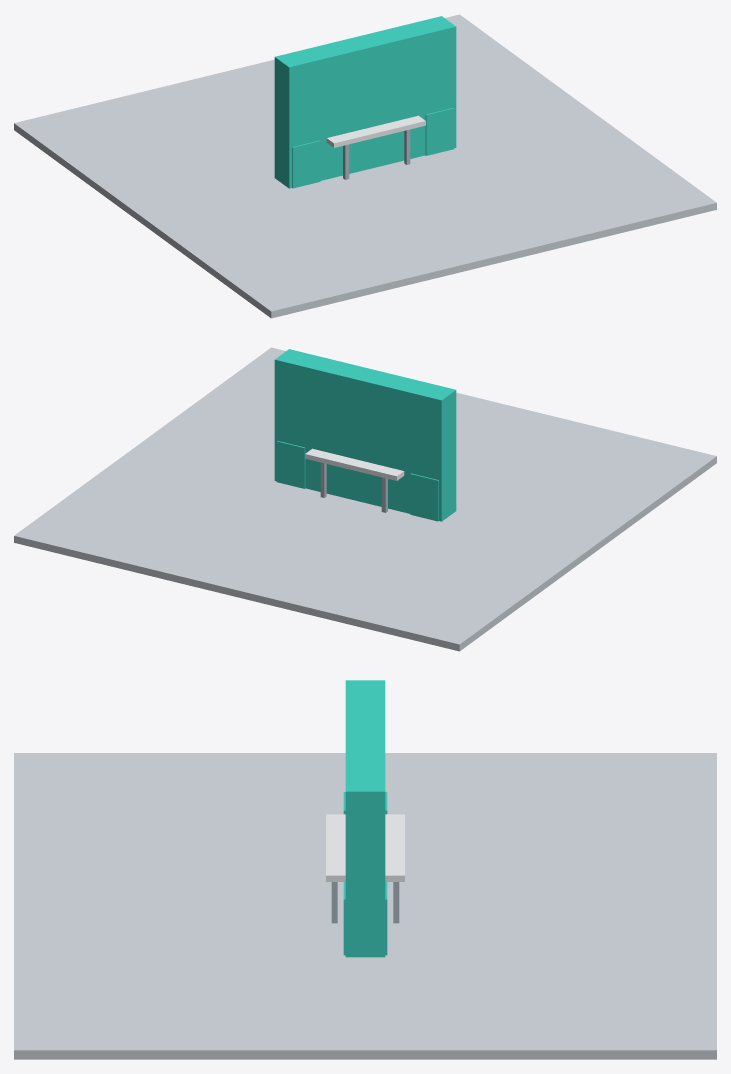
3 views of the same model, one above another, from view 1: azimuth 30°, elevation 25°; view 2: azimuth 150°, elevation 25°; view 3: azimuth 270°, elevation 25° (orthographic). The views are drawn at different scales.
Parts seen in each view (by area): view 1: Exhibition Booth Concept; view 2: Exhibition Booth Concept; view 3: Exhibition Booth Concept.
Boxes of the visible parts, <box> form: Exhibition Booth Concept: <box>14,14,716,318</box>; Exhibition Booth Concept: <box>14,347,716,651</box>; Exhibition Booth Concept: <box>14,680,716,1059</box>.
Bounding box in the file's own units: 8 × 2.2 × 8.
